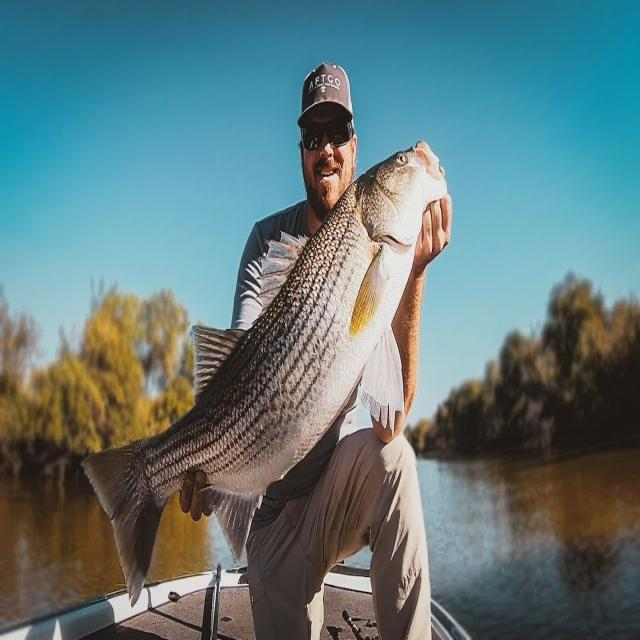Bass - Striped: (84, 142, 447, 603)
